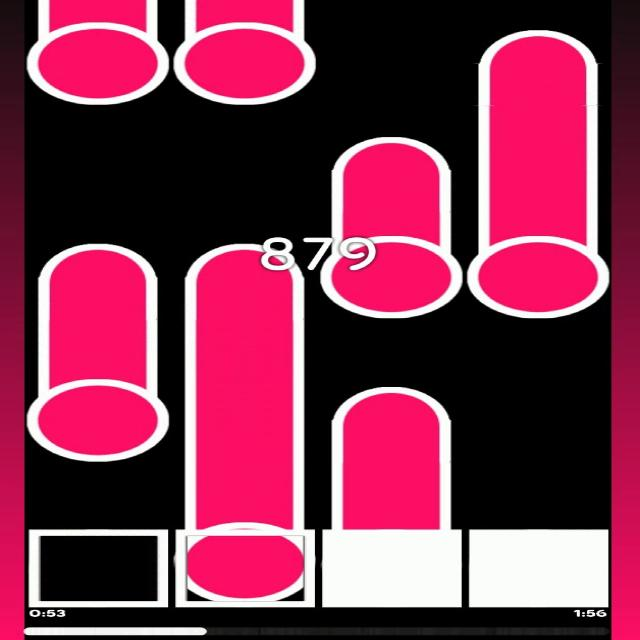end_hold: (325, 128, 457, 184), (328, 377, 457, 434), (178, 236, 308, 290), (30, 231, 158, 284), (466, 22, 603, 71)
start_hold: (26, 366, 169, 463), (26, 13, 170, 106), (468, 224, 608, 318), (178, 14, 316, 108), (314, 229, 456, 318), (182, 509, 306, 603)
